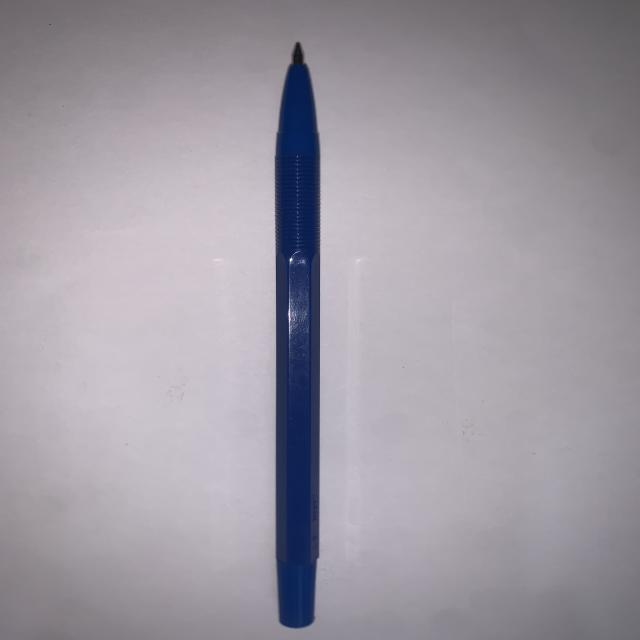Pulpen: (244, 35, 342, 635)
